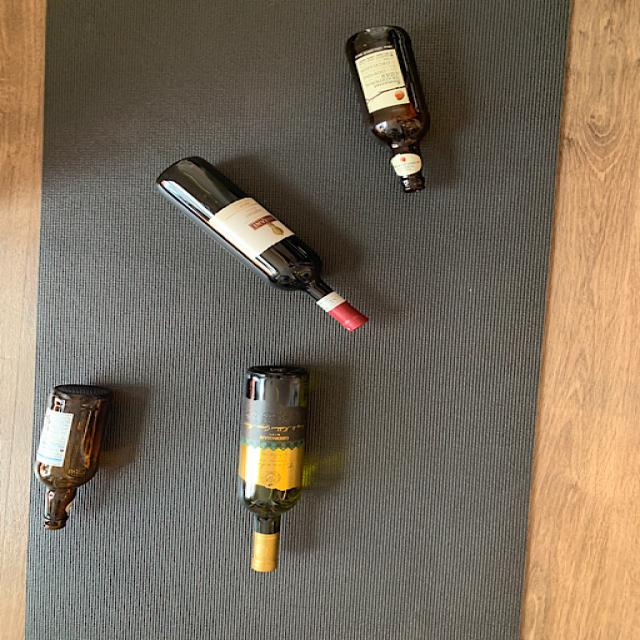Glass Bottle: (152, 150, 382, 330), (337, 24, 438, 202), (231, 362, 311, 570), (28, 384, 112, 536)
